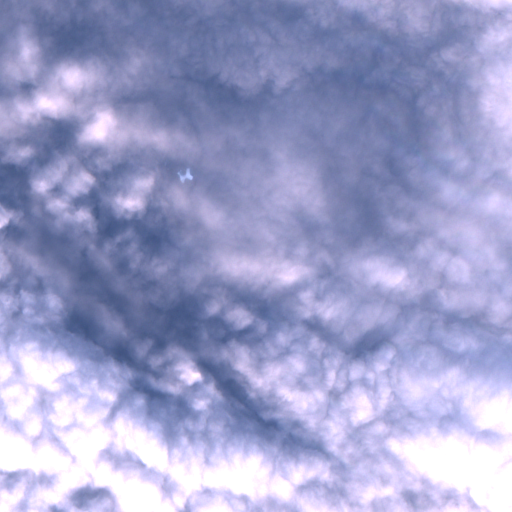Iceberg: (178, 168, 192, 183)
